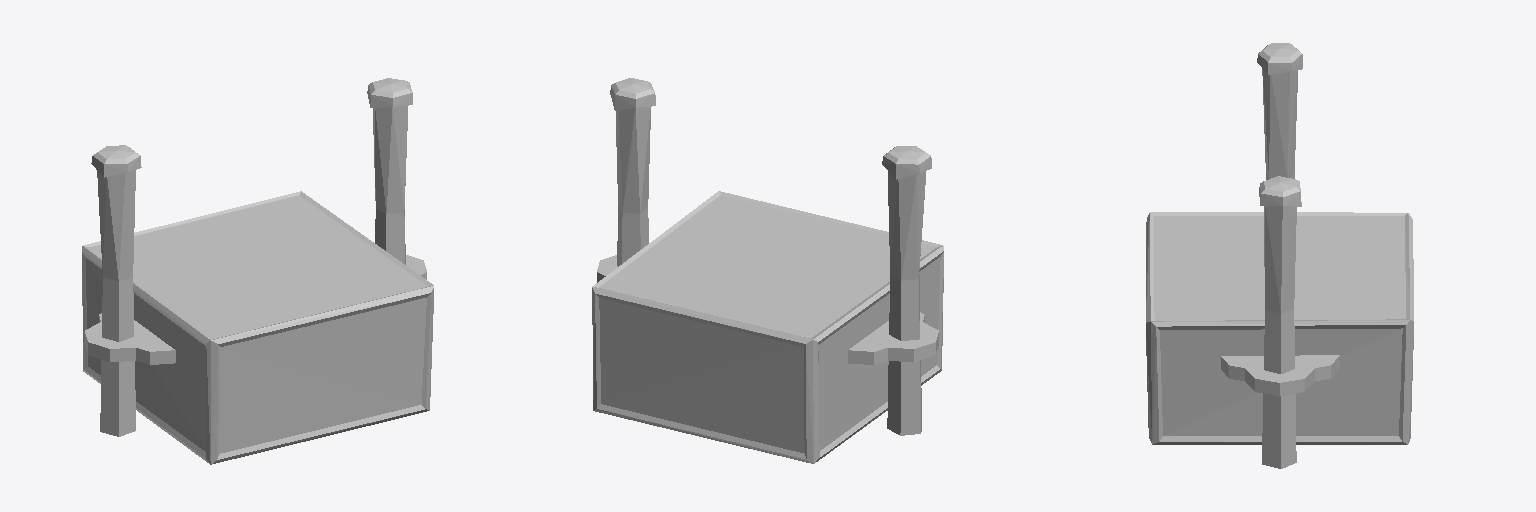
Rendered from bowling_machine.obj.
3 renders of one model, left to right at view 1: azimuth 30°, elevation 25°; view 2: azimuth 150°, elevation 25°; view 3: azimuth 270°, elevation 25°, orthographic.
Parts seen in each view (by area): view 1: Dummy0042, Dummy002, Dummy004; view 2: Dummy0042, Dummy002, Dummy004; view 3: Dummy0042, Dummy002, Dummy004.
Part boxes in pixels (bbox=[...]): Dummy0042: bbox=[82, 191, 433, 464]; Dummy002: bbox=[97, 106, 407, 436]; Dummy004: bbox=[91, 78, 412, 177]; Dummy0042: bbox=[592, 191, 943, 463]; Dummy002: bbox=[615, 107, 925, 435]; Dummy004: bbox=[610, 78, 931, 179]; Dummy0042: bbox=[1146, 212, 1413, 444]; Dummy002: bbox=[1262, 69, 1297, 468]; Dummy004: bbox=[1257, 43, 1302, 206].
Size of the model in its own units: 7.48 by 5.93 by 5.19.